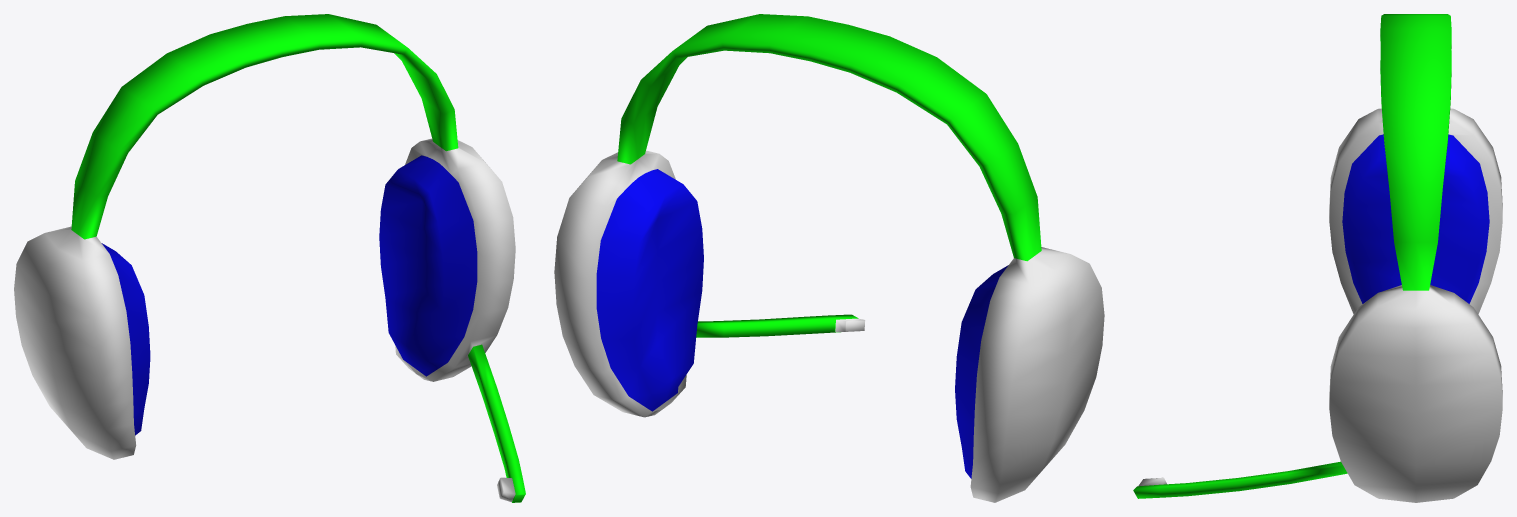
The model's file is Audífonos.fbx.
3 renders of one model, left to right at view 1: azimuth 30°, elevation 25°; view 2: azimuth 150°, elevation 25°; view 3: azimuth 270°, elevation 25°, orthographic. The views are drawn at different scales.
Parts seen in each view (by area): view 1: Audífonos; view 2: Audífonos; view 3: Audífonos.
Boxes of the visible parts, x1=… form: Audífonos: x1=14, y1=14, x2=525, y2=502; Audífonos: x1=554, y1=14, x2=1104, y2=502; Audífonos: x1=1133, y1=14, x2=1502, y2=502.
Bounding box in the file's own units: 21.13 × 18.16 × 15.38.
